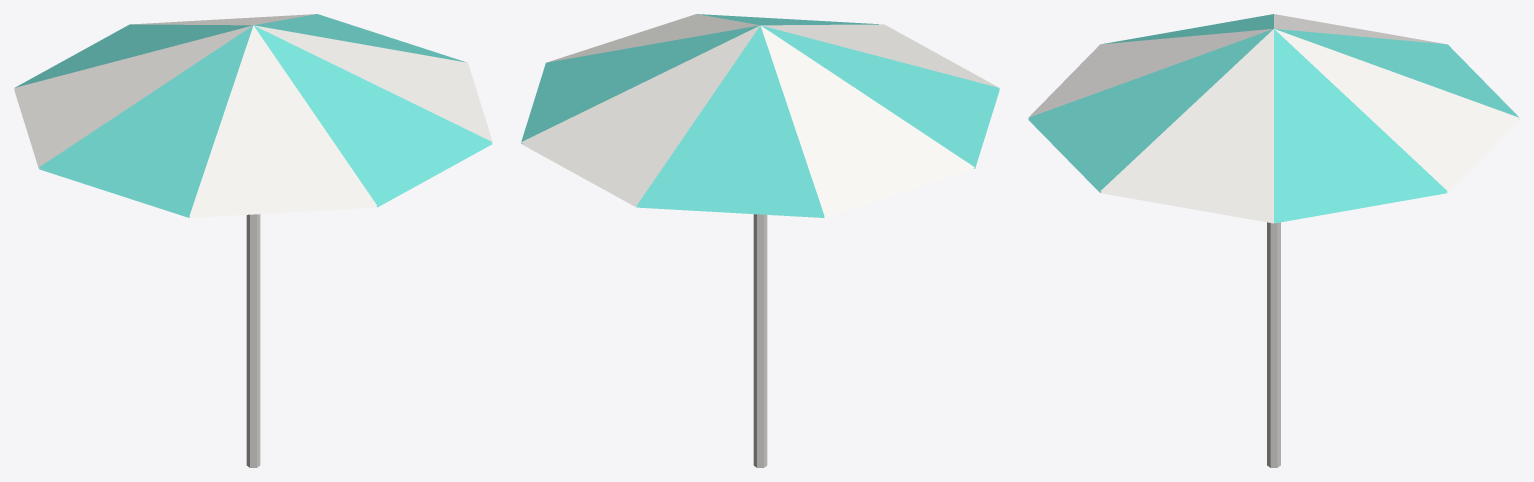
File: BeachUmbrellaTeal.fbx
3 views of the same model, side by side, from view 1: azimuth 30°, elevation 25°; view 2: azimuth 150°, elevation 25°; view 3: azimuth 270°, elevation 25° (orthographic).
Visible parts, largest first — view 1: BeachUmbrellaTeal; view 2: BeachUmbrellaTeal; view 3: BeachUmbrellaTeal.
Boxes of the visible parts, x1,y1,x2,y2 form: BeachUmbrellaTeal: (14,14,492,467); BeachUmbrellaTeal: (521,14,999,467); BeachUmbrellaTeal: (1028,14,1519,467).
Bounding box in the file's own units: 2.5 × 2.45 × 2.5.
